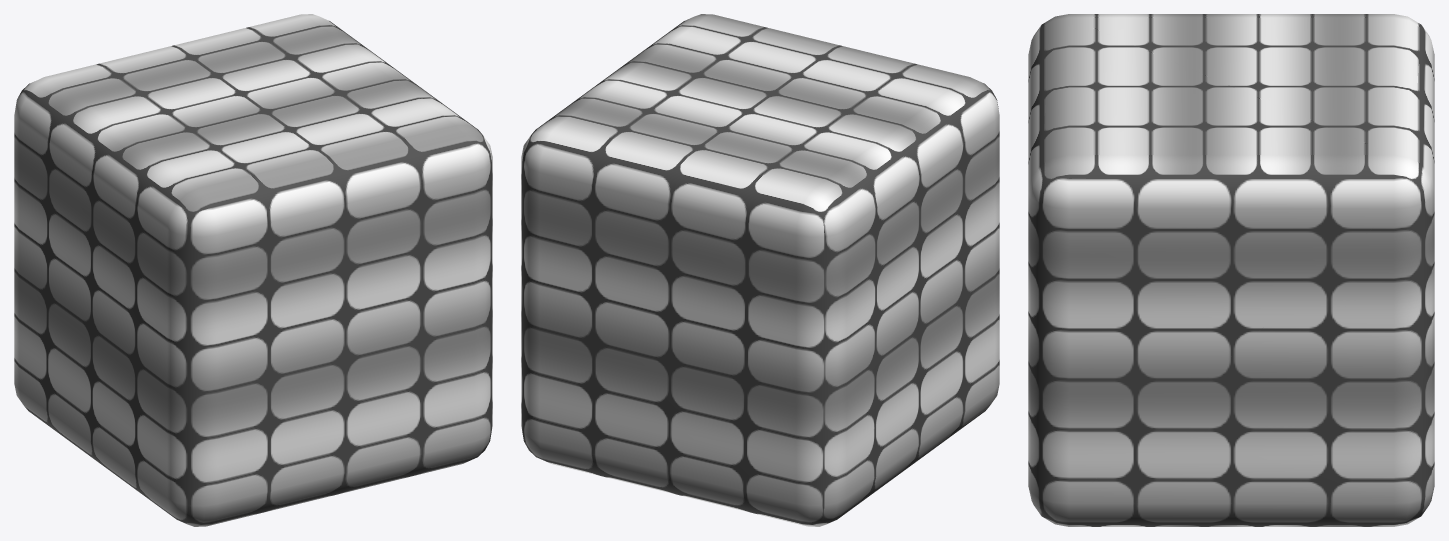
The model's file is Wall_notBreak.fbx.
3 views of the same model, side by side, from view 1: azimuth 30°, elevation 25°; view 2: azimuth 150°, elevation 25°; view 3: azimuth 270°, elevation 25° (orthographic). The views are drawn at different scales.
Parts seen in each view (by area): view 1: Wall_notBreak; view 2: Wall_notBreak; view 3: Wall_notBreak.
Part boxes in pixels (bbox=[...]): Wall_notBreak: bbox=[14, 14, 492, 526]; Wall_notBreak: bbox=[521, 14, 999, 526]; Wall_notBreak: bbox=[1028, 14, 1434, 526].
Size of the model in its own units: 100 by 100 by 100.
